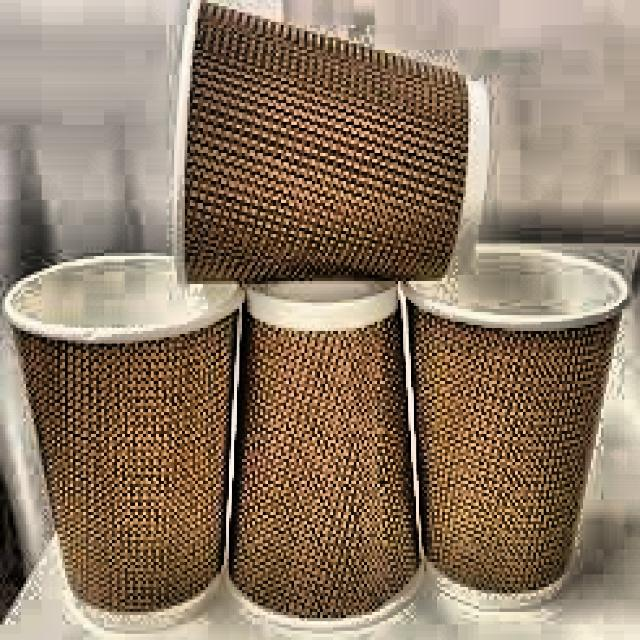Cup: (177, 0, 510, 288), (399, 225, 626, 620), (5, 249, 229, 633), (218, 248, 428, 640)
